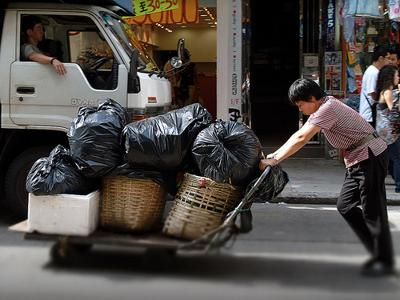person: (259, 75, 398, 280)
